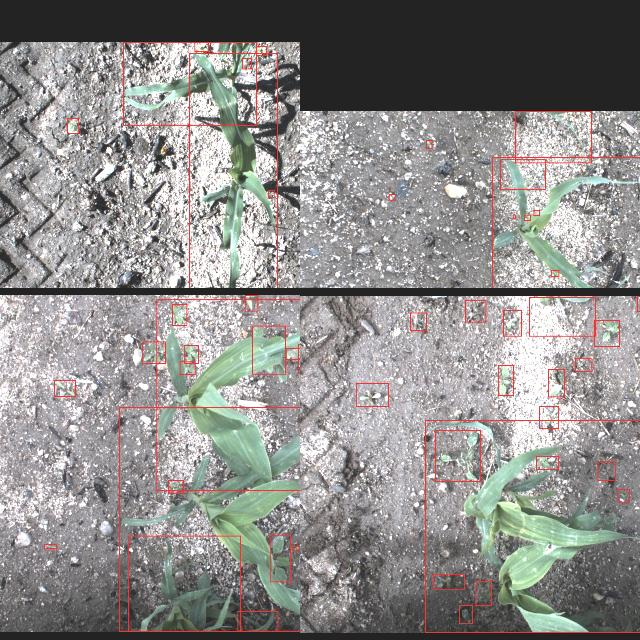crop: (425, 419, 640, 632), (119, 407, 300, 631), (157, 298, 300, 490), (189, 52, 277, 288), (492, 156, 640, 288), (124, 42, 256, 125), (129, 535, 241, 631), (515, 110, 591, 162), (529, 296, 595, 336), (238, 611, 278, 631), (67, 118, 79, 132)
weed: (436, 430, 480, 480), (252, 325, 286, 373), (500, 158, 546, 188), (270, 534, 290, 582), (356, 382, 388, 406), (594, 319, 620, 345), (142, 341, 166, 363), (498, 364, 514, 394), (434, 574, 464, 590), (503, 309, 521, 335), (548, 368, 564, 396), (466, 299, 486, 321), (540, 406, 558, 428), (476, 581, 492, 605), (54, 380, 76, 396), (598, 460, 614, 480), (536, 455, 558, 469), (410, 312, 426, 330), (172, 304, 186, 324), (184, 344, 198, 362), (460, 605, 472, 623), (245, 294, 258, 310), (168, 480, 184, 492), (576, 358, 592, 370), (180, 361, 194, 374), (286, 347, 300, 359), (618, 488, 630, 502), (195, 41, 209, 50), (242, 58, 252, 68), (256, 46, 266, 54), (426, 140, 432, 148), (551, 270, 559, 276), (45, 544, 57, 548), (268, 190, 274, 197), (389, 193, 395, 199), (524, 214, 530, 220), (534, 210, 540, 214), (293, 546, 299, 550), (514, 214, 514, 218)
